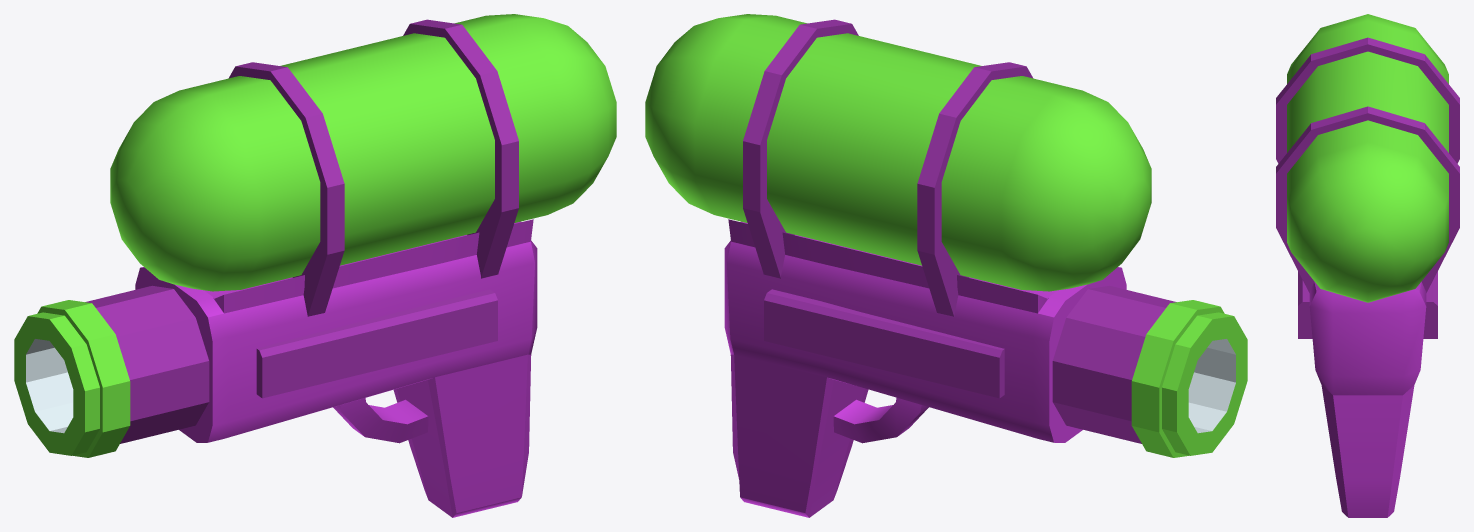
The model's file is SR_Gun_Green.fbx.
The picture shows the model from 3 angles, left to right: view 1: azimuth 30°, elevation 25°; view 2: azimuth 150°, elevation 25°; view 3: azimuth 270°, elevation 25°; orthographic projection. The views are drawn at different scales.
Visible parts, largest first — view 1: SR_Gun_Green; view 2: SR_Gun_Green; view 3: SR_Gun_Green.
Boxes of the visible parts, bbox=[...] form: SR_Gun_Green: bbox=[14, 14, 616, 517]; SR_Gun_Green: bbox=[645, 14, 1247, 517]; SR_Gun_Green: bbox=[1276, 14, 1459, 517].
Bounding box in the file's own units: 171 × 141 × 60.59.
